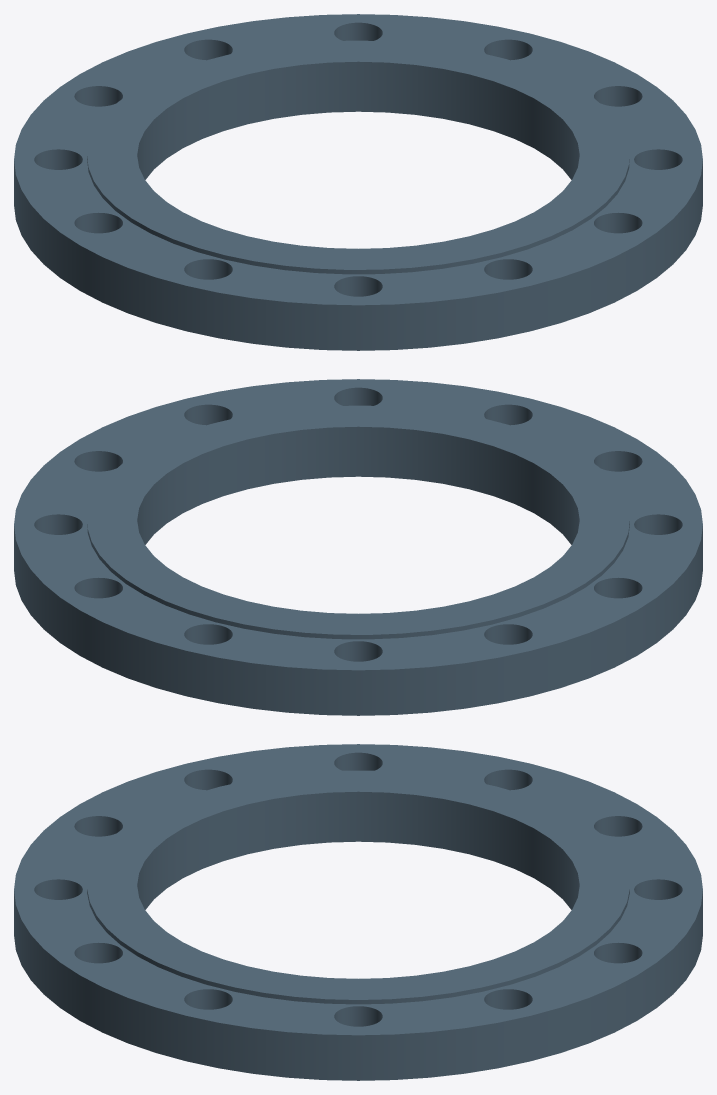
The model's file is flanec-ploskij-DN250-PN25.glb.
3 views of the same model, one above another, from view 1: azimuth 30°, elevation 25°; view 2: azimuth 150°, elevation 25°; view 3: azimuth 270°, elevation 25° (orthographic).
Parts seen in each view (by area): view 1: Open CASCADE STEP translator 7.9 39; view 2: Open CASCADE STEP translator 7.9 39; view 3: Open CASCADE STEP translator 7.9 39.
Boxes of the visible parts, x1,y1,x2,y2 form: Open CASCADE STEP translator 7.9 39: (14,14,702,350); Open CASCADE STEP translator 7.9 39: (14,379,702,715); Open CASCADE STEP translator 7.9 39: (14,744,702,1080).
Bounding box in the file's own units: 425 × 34 × 425.
